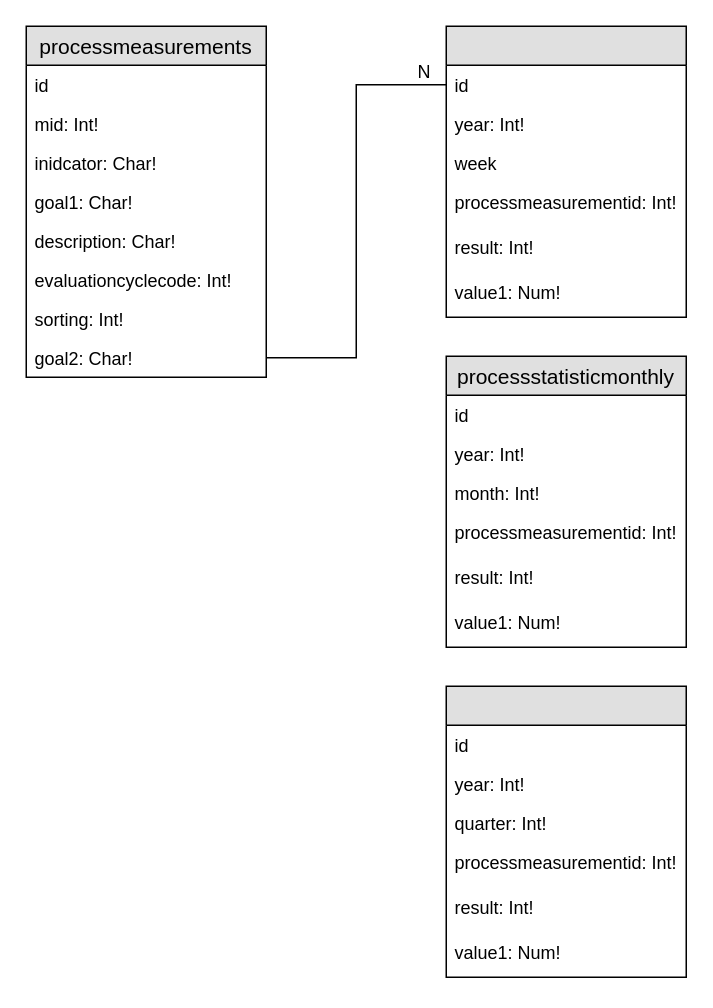
Some shapes in this 713 by 1008 pixel diagram are drawn without their labels. Each missing label, with the box of its shape:
processstatisticquarterly: (445, 685, 686, 977)
processstatisticweekly: (445, 25, 686, 317)
